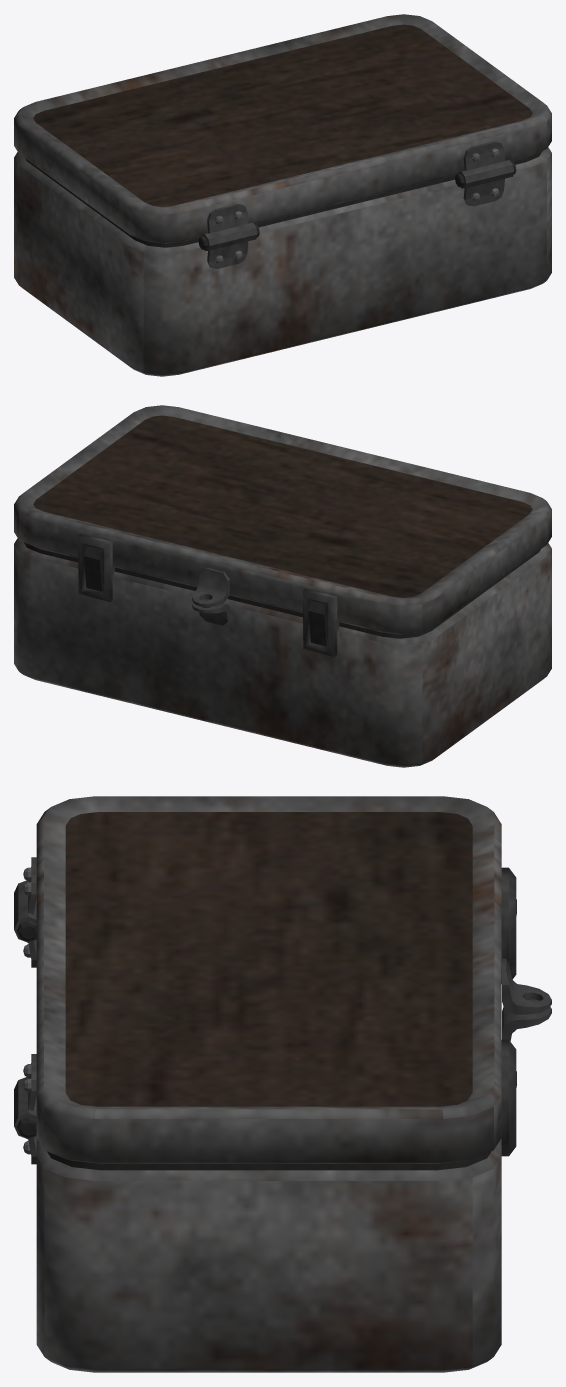
File: metal_crate_1.fbx
3 renders of one model, top to bottom at view 1: azimuth 30°, elevation 25°; view 2: azimuth 150°, elevation 25°; view 3: azimuth 270°, elevation 25°, orthographic. The views are drawn at different scales.
Parts seen in each view (by area): view 1: metal_crate_1; view 2: metal_crate_1; view 3: metal_crate_1.
Boxes of the visible parts, x1,y1,x2,y2 form: metal_crate_1: (14,14,551,376); metal_crate_1: (14,405,551,767); metal_crate_1: (14,796,551,1372).
Bounding box in the file's own units: 0.52 × 0.3702 × 0.2.
